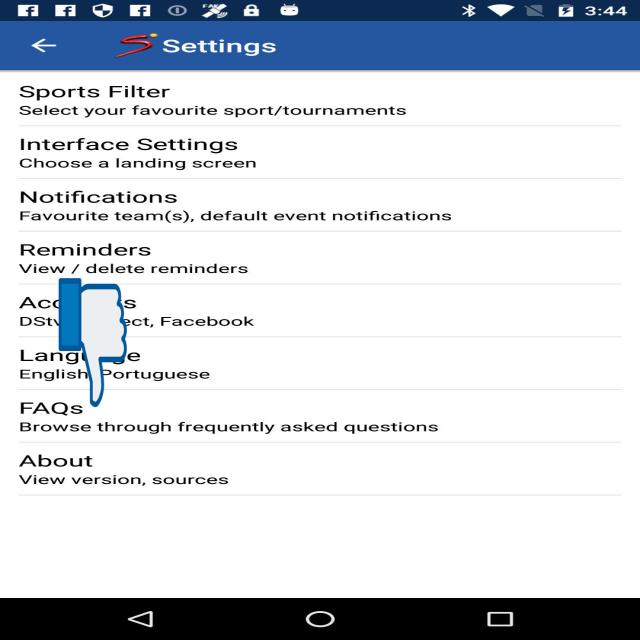obstruction: (58, 275, 126, 410)
